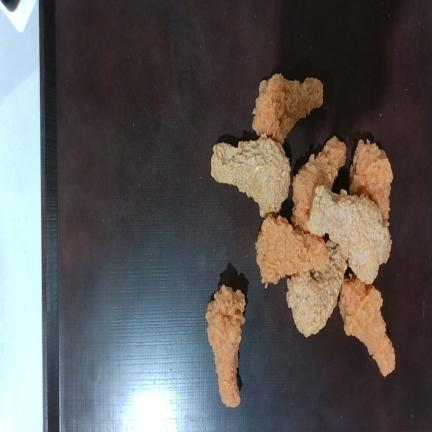chicken: (307, 186, 391, 283), (211, 135, 290, 217), (287, 240, 347, 337), (339, 275, 395, 376), (255, 215, 329, 288), (292, 136, 346, 232), (252, 74, 323, 143), (206, 284, 245, 407), (350, 140, 393, 224)
